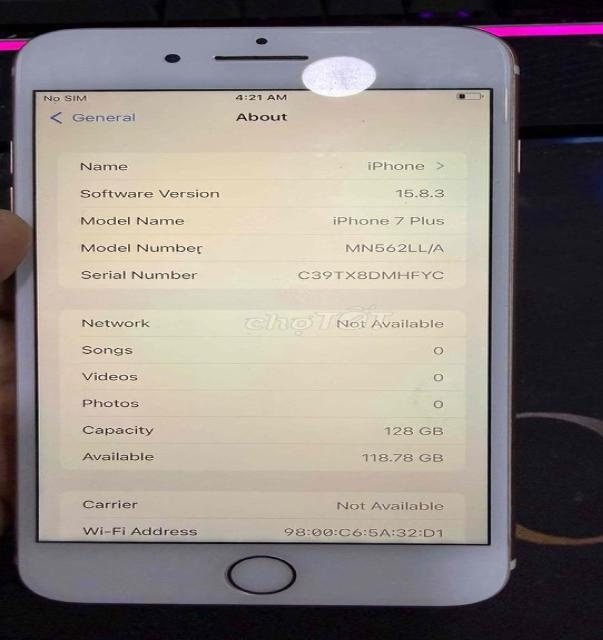screen_defect: (293, 48, 383, 104)
